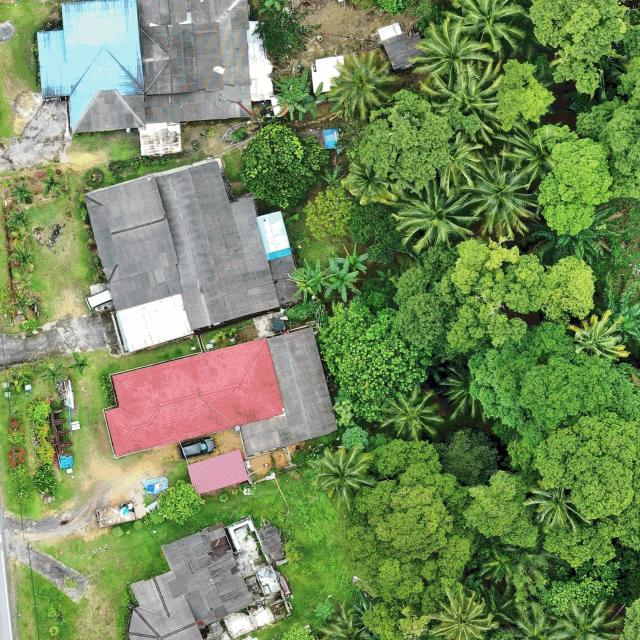Tree: (503, 357, 640, 566), (344, 438, 478, 597), (316, 301, 432, 427), (346, 88, 481, 190), (468, 321, 590, 430), (445, 237, 546, 351), (528, 0, 632, 94), (529, 123, 612, 236), (388, 244, 466, 362), (242, 119, 328, 212), (419, 59, 506, 141), (520, 202, 630, 264), (391, 176, 476, 253), (462, 154, 538, 240), (464, 471, 540, 549), (408, 16, 489, 89), (328, 48, 402, 121), (348, 196, 418, 264), (496, 58, 557, 134), (424, 587, 498, 640), (378, 383, 444, 442), (314, 444, 376, 506), (567, 307, 630, 366), (442, 424, 501, 486), (543, 257, 599, 322), (254, 9, 324, 61), (464, 0, 526, 53), (430, 128, 484, 188), (554, 596, 625, 640), (304, 183, 356, 242), (524, 482, 582, 531), (442, 364, 488, 424), (343, 158, 390, 206), (505, 601, 562, 640), (158, 478, 204, 524), (287, 260, 334, 302), (270, 68, 310, 116), (324, 266, 362, 301), (282, 298, 322, 330), (295, 81, 325, 120), (337, 244, 370, 276), (8, 244, 36, 273), (41, 362, 68, 388), (40, 172, 66, 198), (67, 351, 92, 377), (10, 294, 35, 317), (6, 208, 32, 228), (11, 182, 35, 203), (10, 225, 30, 245)
